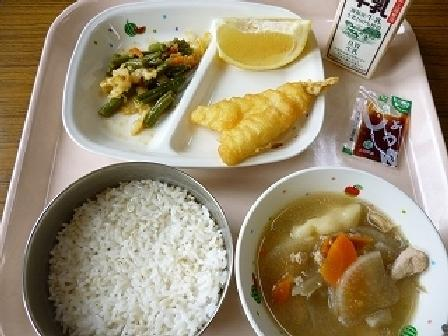Citrus: (209, 9, 310, 70)
Milk: (322, 0, 405, 69)
Rice: (25, 168, 230, 335)
Salad: (91, 27, 195, 120)
Soups: (239, 175, 446, 335)
egg product: (190, 81, 336, 164)
